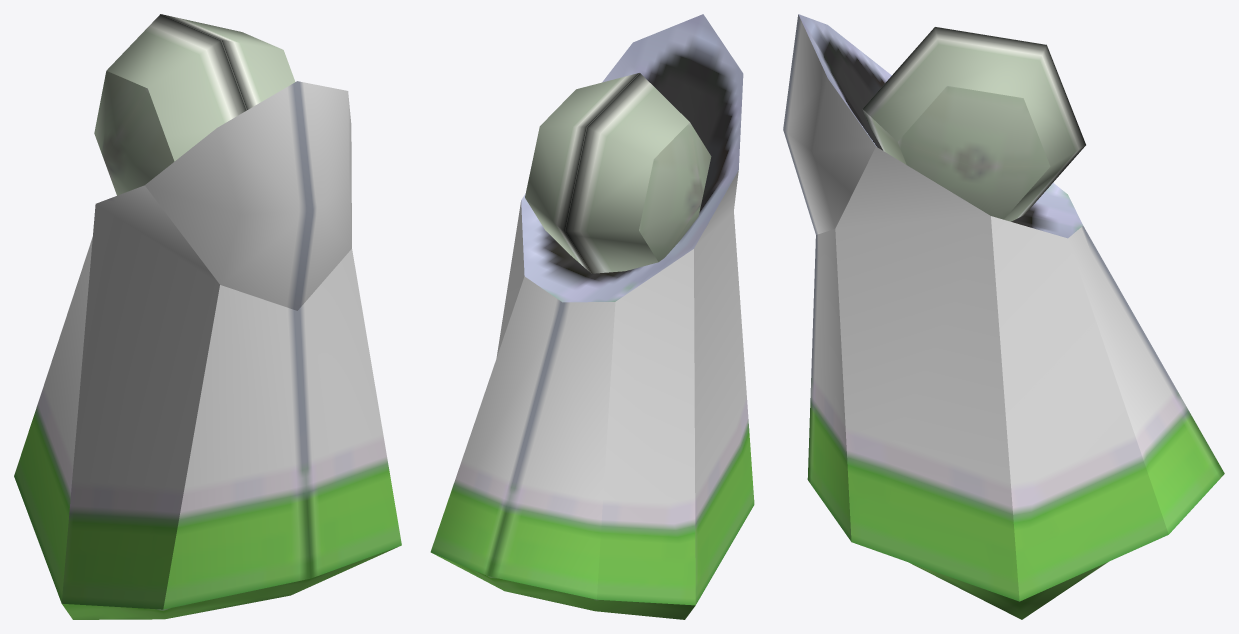
Rendered from buzzlightyLeftCalf.obj.
3 renders of one model, left to right at view 1: azimuth 30°, elevation 25°; view 2: azimuth 150°, elevation 25°; view 3: azimuth 270°, elevation 25°, orthographic. The views are drawn at different scales.
Parts seen in each view (by area): view 1: buzzlightyLeftCalf_buzzlighty.002; view 2: buzzlightyLeftCalf_buzzlighty.002; view 3: buzzlightyLeftCalf_buzzlighty.002.
Boxes of the visible parts, left/top/right/bottom form: buzzlightyLeftCalf_buzzlighty.002: left=14, top=14, right=401, bottom=619; buzzlightyLeftCalf_buzzlighty.002: left=430, top=14, right=754, bottom=619; buzzlightyLeftCalf_buzzlighty.002: left=783, top=14, right=1224, bottom=619.
Bounding box in the file's own units: 0.1019 × 0.2179 × 0.1597.
Materials: 1 (1 with a texture image).
